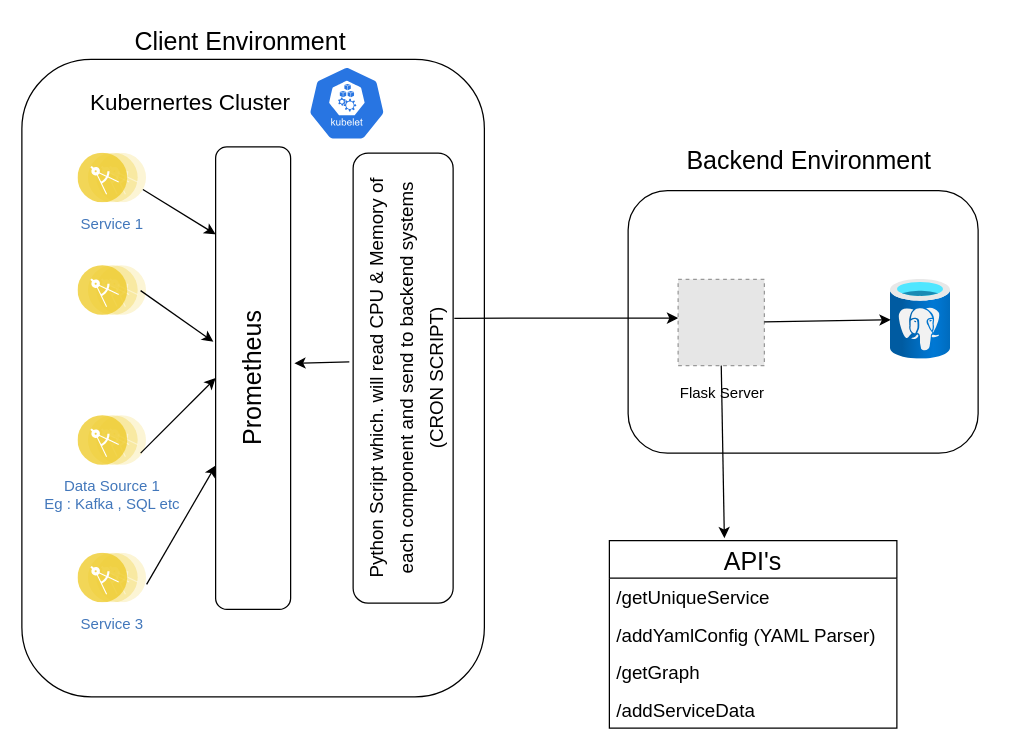
Some shapes in this 1013 by 750 pixel diagram are drawn without their labels. Grey dashed boxes stand in for pictures. The shapes that lost their labels are listed below. From the top down, each one's centre as x and y in pixels, then its label:
the point at 112,290: Service 2
the point at 920,319: Postgresql
